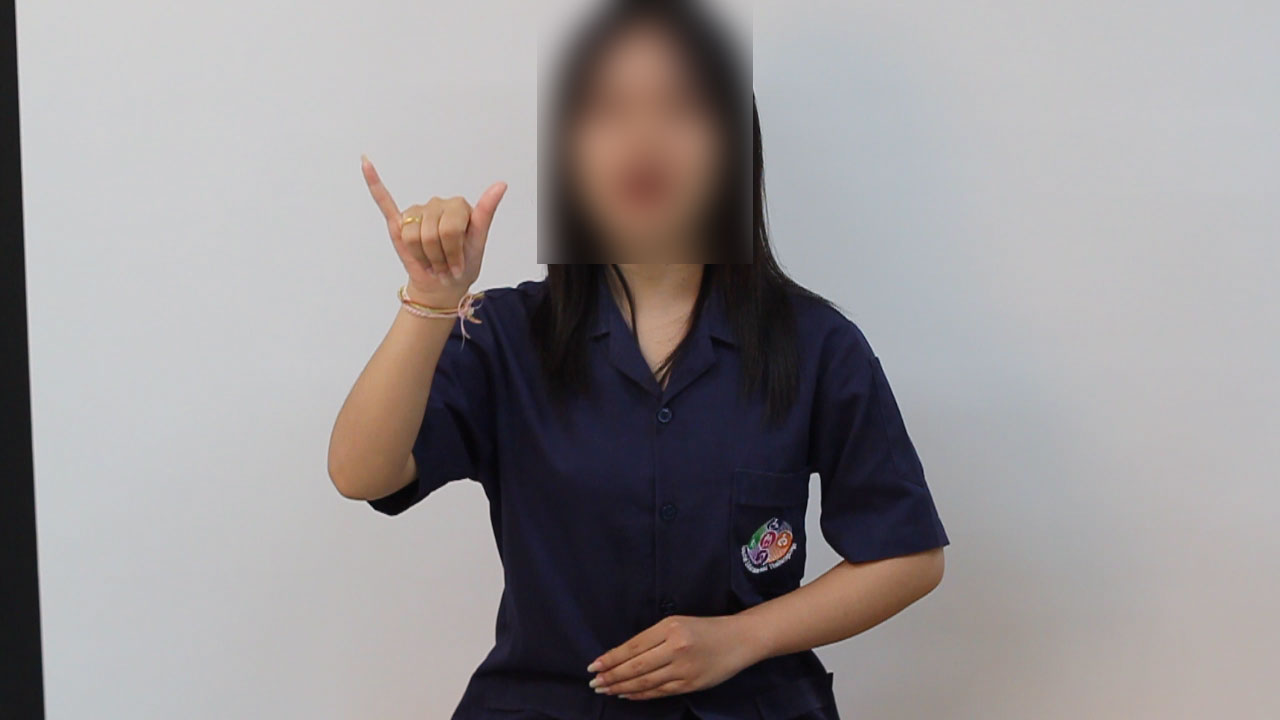yor: (349, 145, 516, 301)
